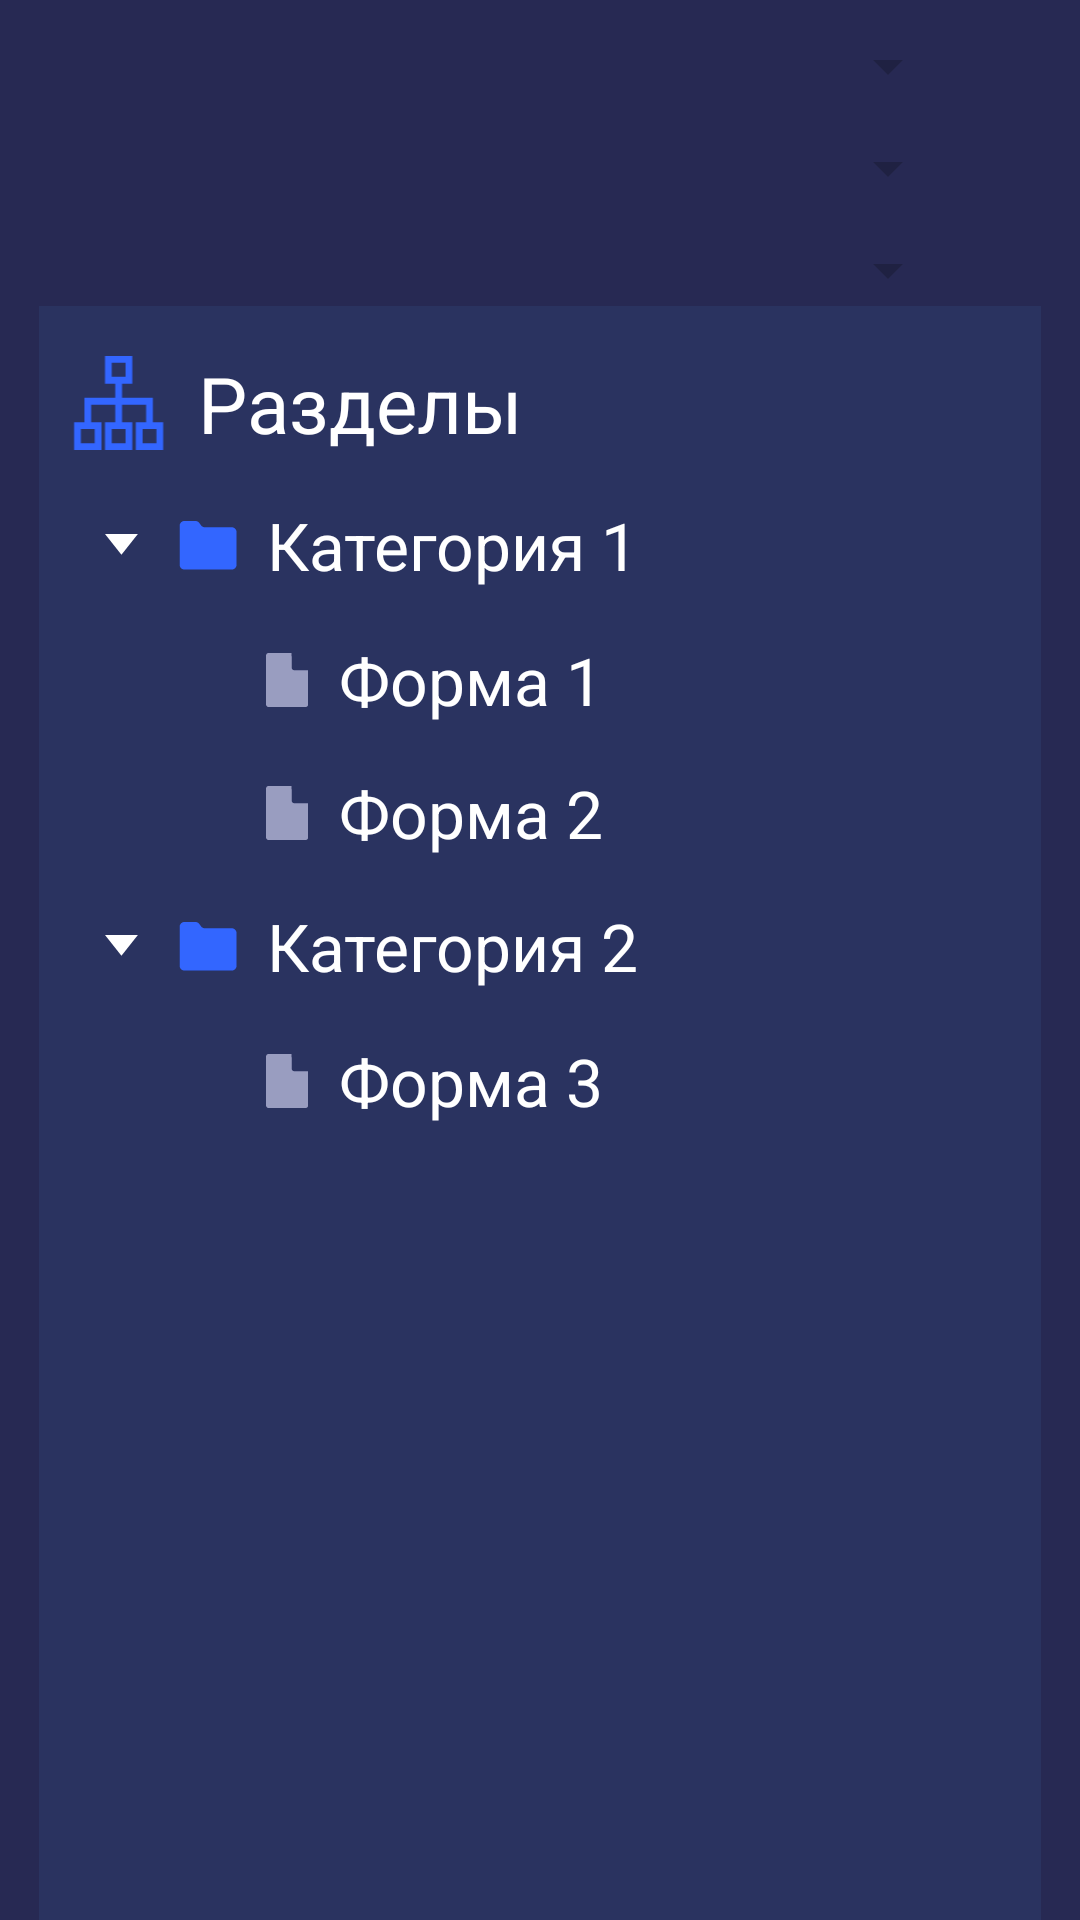

Icons on this 1080×1920 Android screen, each with its box as (left=x1, top=y1, right=x2, bottom=y2):
categories: (left=73, top=356, right=164, bottom=450)
folder: (left=179, top=521, right=237, bottom=570), (left=179, top=922, right=237, bottom=971)
form: (left=266, top=653, right=308, bottom=707), (left=266, top=786, right=308, bottom=840), (left=266, top=1054, right=308, bottom=1108)
open cat: (left=105, top=534, right=138, bottom=555), (left=105, top=935, right=138, bottom=956)
